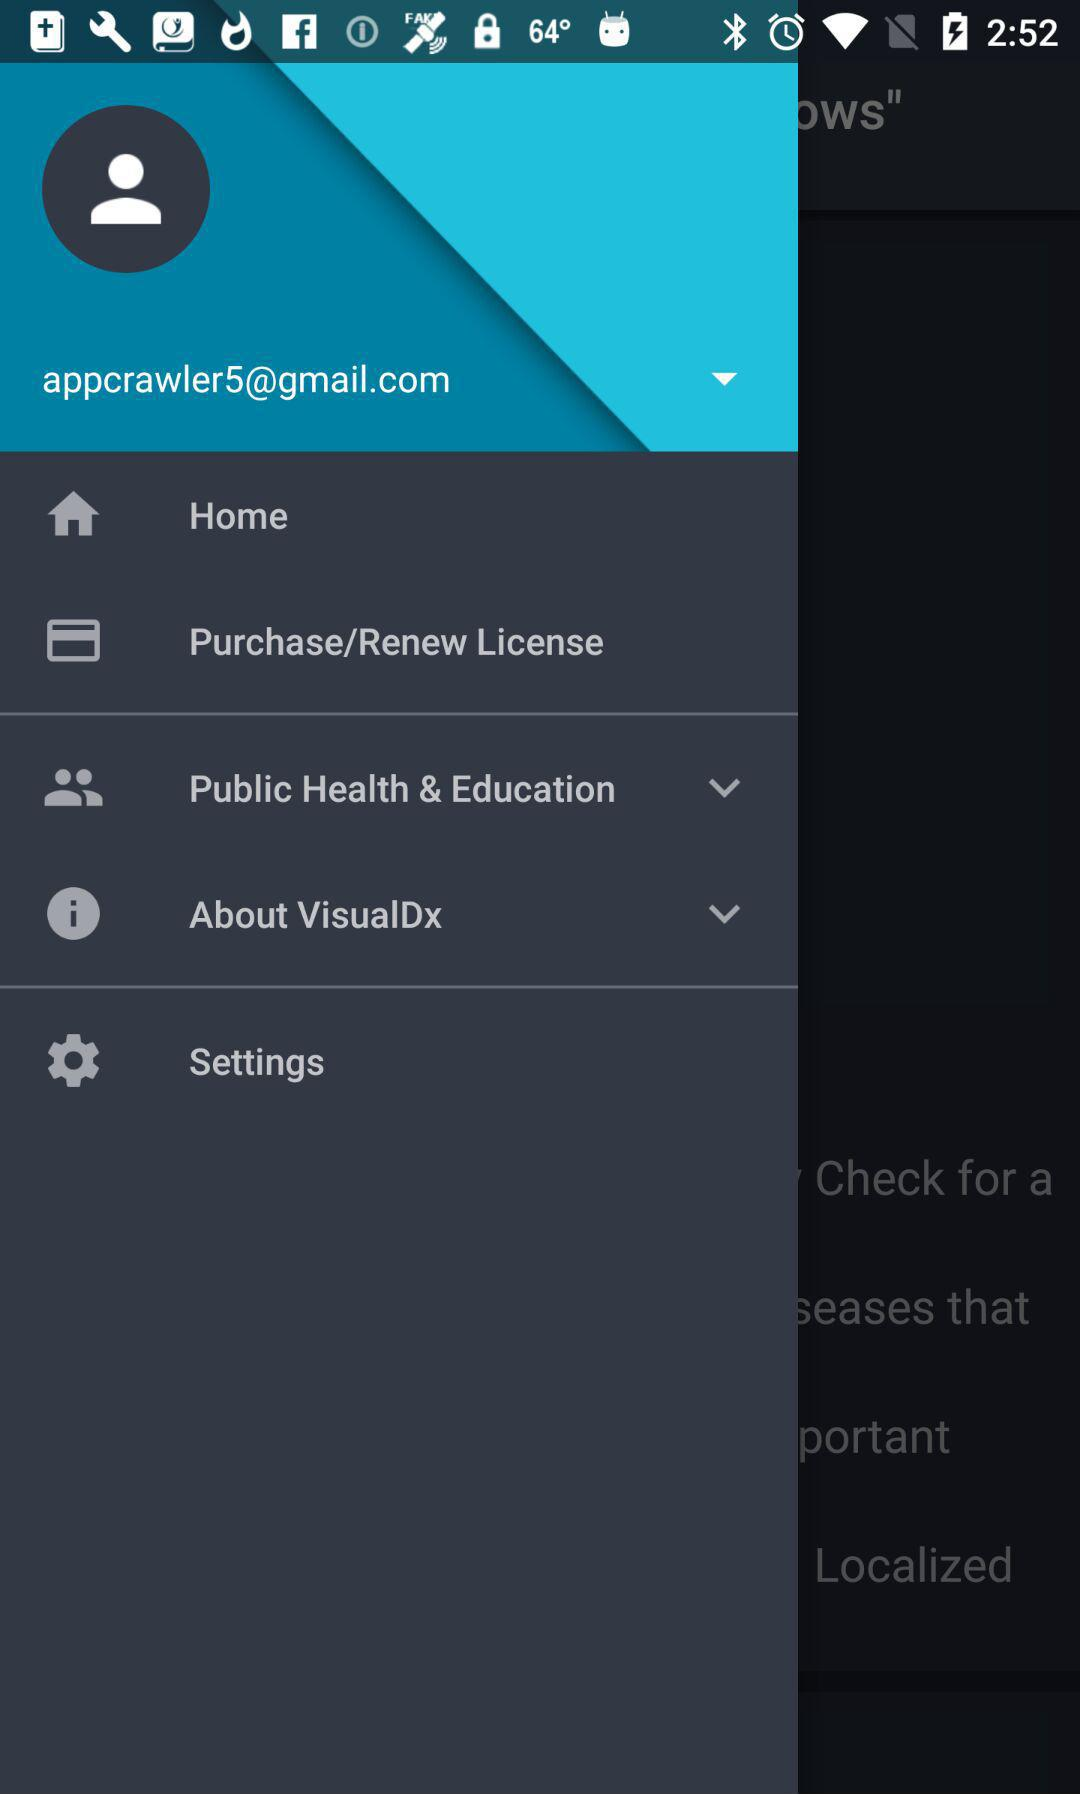Drawer: (1, 65, 799, 1793)
Icon: (42, 105, 211, 276), (47, 885, 102, 942), (47, 1033, 102, 1088), (47, 490, 102, 538), (47, 618, 102, 664), (44, 768, 105, 809), (707, 777, 742, 800), (708, 903, 742, 926), (711, 372, 739, 390)
Text: (42, 363, 452, 404), (190, 773, 616, 805), (190, 627, 605, 659), (190, 900, 445, 932), (190, 1046, 325, 1085), (190, 501, 288, 532)
UpperTaskBar: (1, 1, 1080, 64)
